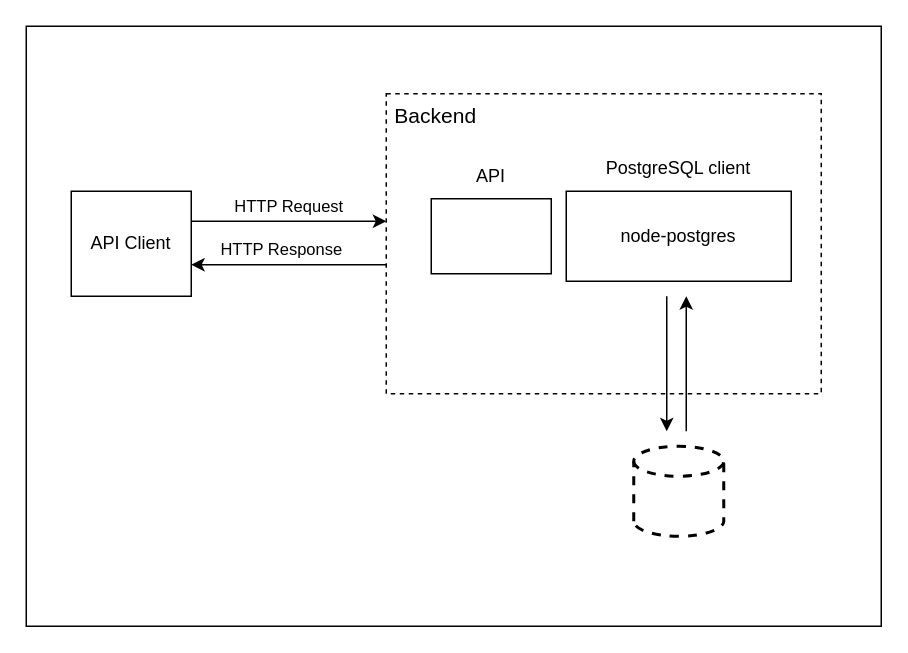
This 908x653 diagram has some shape labels left out. The shapes that lost their labels are listed below. From the top down, each one's centre as x and y in pixels, then its label:
At (490,235): "Express Node.js".
At (678,490): "PostgreSQL Database".
